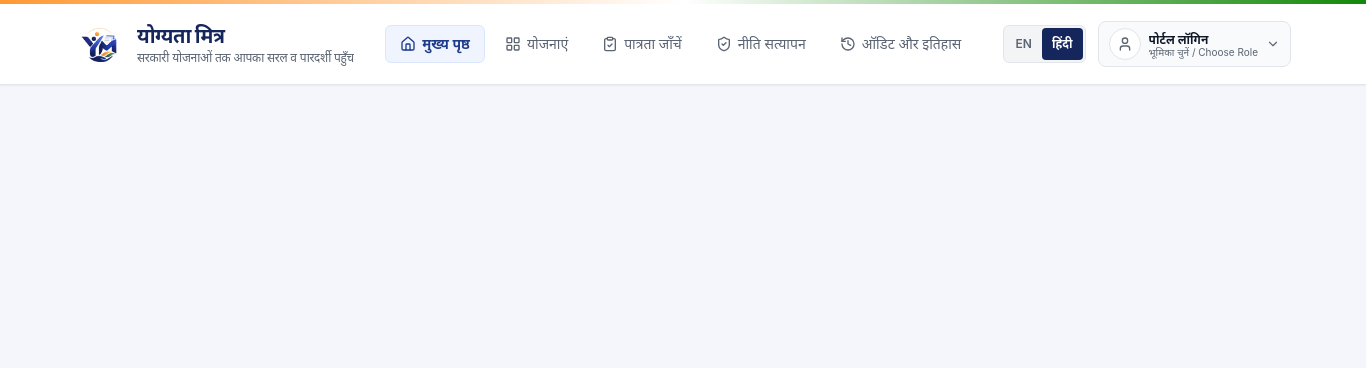
Test: Phase A: Authentication, Role Routing & Access Control › renders GlobalNavbar with profile entry point and role selection popover
Note: Open dropdown
Click the button with aria-label "उपयोगकर्ता प्रोफ़ाइल और पोर्टल भूमिका". click: (1194, 44)
box: [1098, 21, 1291, 67]
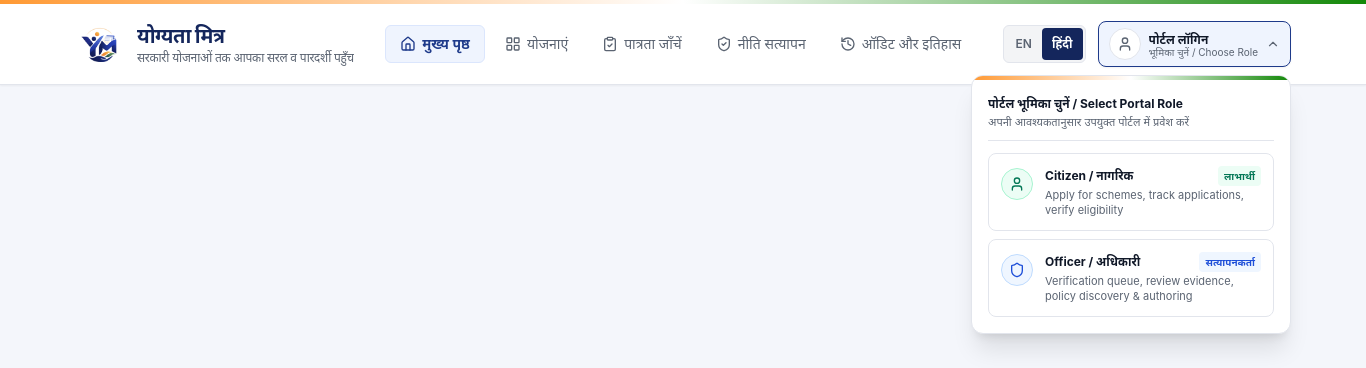
Result: the text "Citizen / नागरिक" is shown at [1045, 168, 1133, 184]
Result: the text "Officer / अधिकारी" is shown at [1045, 254, 1140, 270]
Result: the text "Apply for schemes, track applications, verify eligibility" is shown at [1045, 188, 1261, 218]
